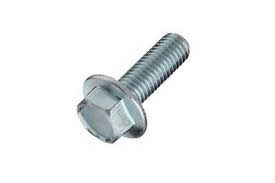TORNILLOS: (70, 13, 199, 157)
